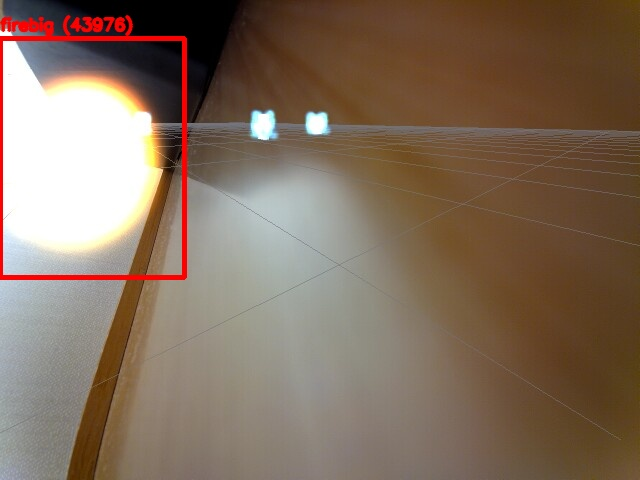firebig: (0, 38, 184, 277)
